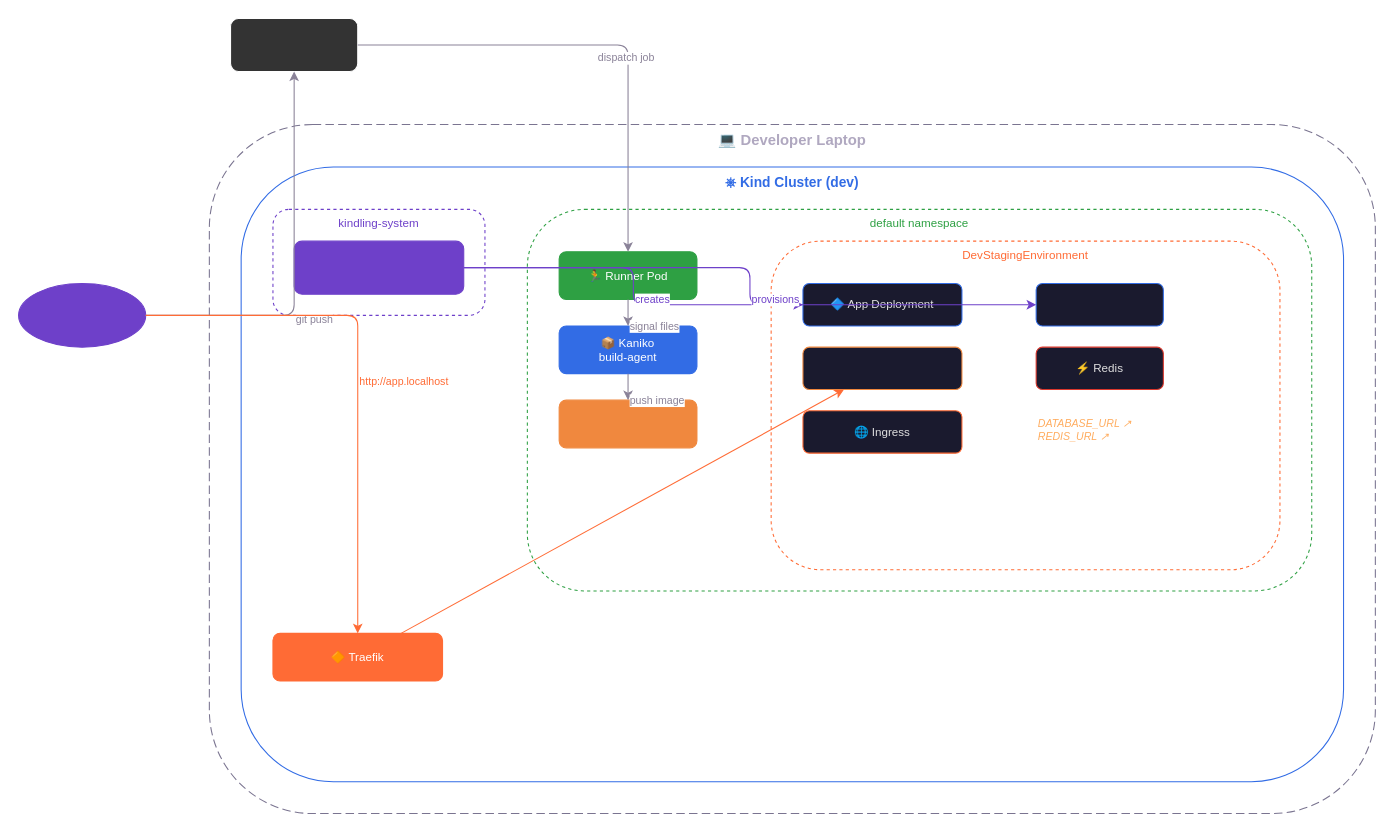
This 1394x832 diagram has some shape labels left out. Here are the shapes that lost their labels. From the top down, the centre of each, then its label:
pixel 293 44: 🐙 GitHub
pixel 378 267: 🎛️ Operator controller-manager
pixel 81 314: 👩‍💻 Developer
pixel 1099 304: 🐘 Postgres
pixel 882 368: 🔶 Service
pixel 627 423: 🗄️ Registry registry:5000
